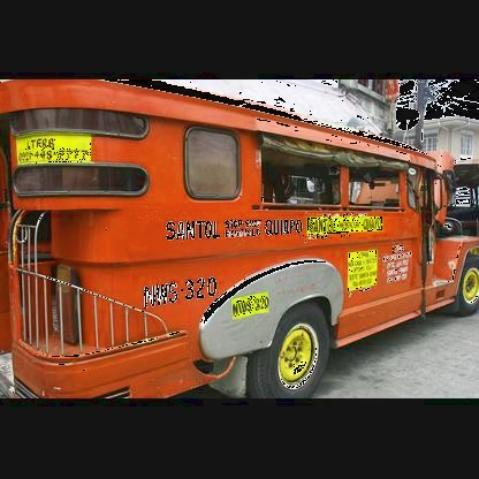jeepney: (0, 82, 479, 402)
